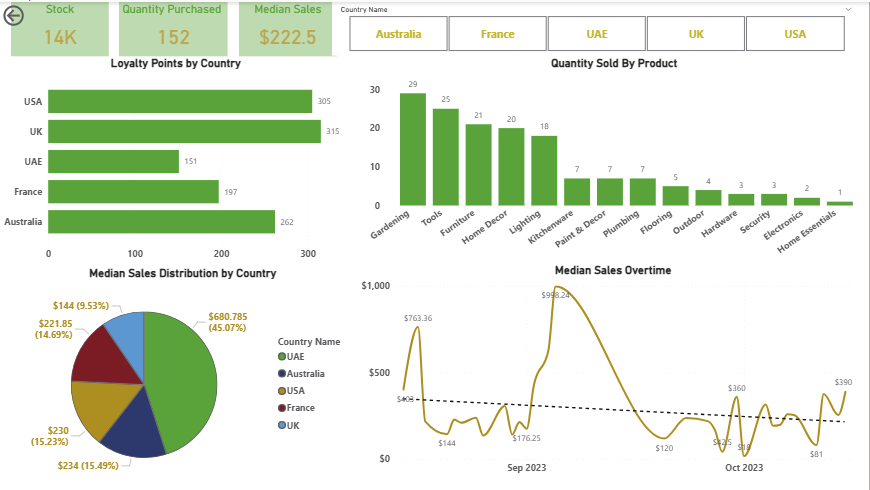

The page's visual inventory and layout, read from the dashboard file:
{"tool":"powerbi","page":{"name":"Sales Overview","canvas":[1280,720],"ordinal":0},"visuals":[{"type":"clusteredBarChart","title":"Loyalty Points by Country","fields":{"Category":["Sales in USD.Country Name"],"Y":["Sum(Sales in USD. Loyalty Points)"]},"box":[0,79,518,310.2],"z":0},{"type":"clusteredColumnChart","title":"Quantity Sold By Product","fields":{"Y":["Sum(Sales in USD.Quantity Purchased)"],"Category":["Sales in USD.Product Category"]},"box":[528.3,79,752.2,310.2],"z":1000},{"type":"pieChart","title":"Median Sales Distribution by Country ","fields":{"Category":["Sales in USD.Country Name"],"Y":["Sales in USD.Median Sales"]},"box":[10.2,389.3,518,330.7],"z":2000},{"type":"lineChart","title":"Median Sales Overtime","fields":{"Y":["Sales in USD.Median Sales"],"Category":["CalendarTable.Date"]},"box":[528,384,752,320],"z":3000},{"type":"card","title":"Stock","fields":{"Values":["Sum(Sales in USD. Stock  )"]},"box":[16,0,144,80],"z":4000},{"type":"card","title":"Quantity Purchased","fields":{"Values":["Sum(Sales in USD.Quantity Purchased)"]},"box":[176,0,160,80],"z":5000},{"type":"card","title":"Median Sales","fields":{"Values":["Sales in USD.Median Sales"]},"box":[352,0,144,80],"z":6000},{"type":"slicer","fields":{"Values":["Sales in USD.Country Name"]},"box":[488.8,0,778.5,79],"z":7000},{"type":"actionButton","box":[0,0,100,40],"z":8000}]}

Visuals, with their boxes in screenshot pixels (x1, y1, x2, y2), scaled from the page's 1280x720 canvas onto the 870x490 screenshot:
"Loyalty Points by Country" clusteredBarChart: l=0, t=54, r=352, b=265
"Quantity Sold By Product" clusteredColumnChart: l=359, t=54, r=869, b=265
"Median Sales Distribution by Country " pieChart: l=7, t=265, r=359, b=489
"Median Sales Overtime" lineChart: l=359, t=261, r=869, b=479
"Stock" card: l=11, t=0, r=109, b=54
"Quantity Purchased" card: l=120, t=0, r=228, b=54
"Median Sales" card: l=239, t=0, r=337, b=54
slicer - Sales in USD.Country Name: l=332, t=0, r=861, b=54
actionButton: l=0, t=0, r=68, b=27
